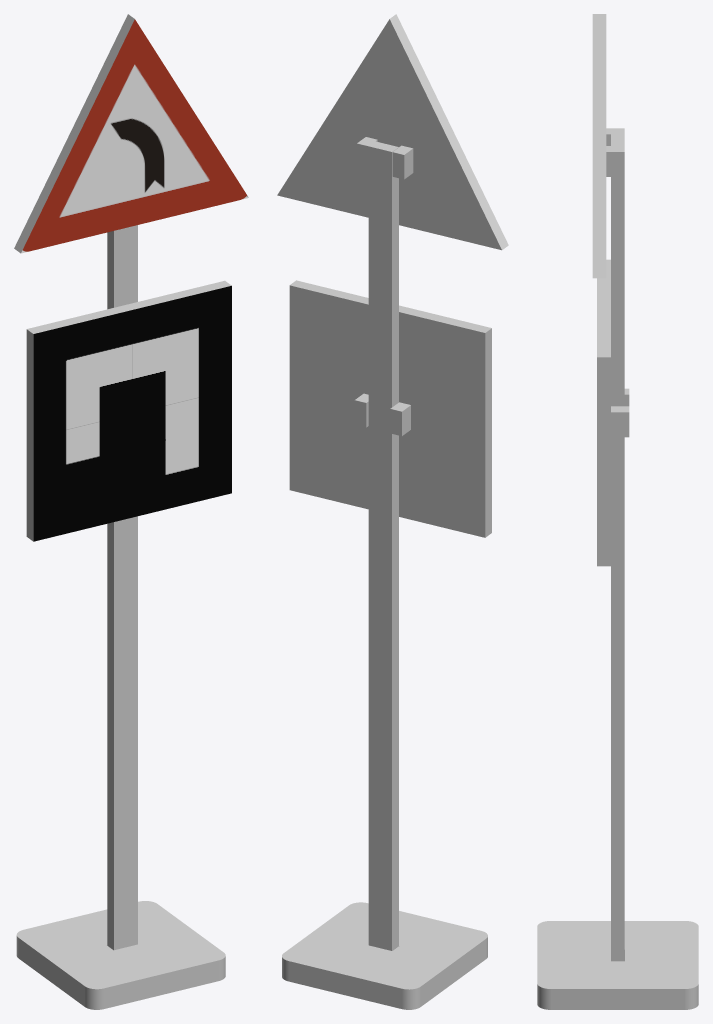
The model's file is peligr_dcha_aruco.dae.
The picture shows the model from 3 angles, left to right: view 1: azimuth 30°, elevation 25°; view 2: azimuth 150°, elevation 25°; view 3: azimuth 270°, elevation 25°; orthographic projection. The views are drawn at different scales.
Visible parts, largest first — view 1: ab221cf7-9816-4806-b56b-c317071661bc, a5c78f3f-2824-48d5-a184-1c378534ab11, b99c7e04-0a23-4c5b-b703-5fe2e5bd65ac, d0072eb1-4ca3-4964-a02b-b9001cddf30d, a0a2af1c-3811-424c-ada5-b0e1c0d73768, aec58471-5204-4872-bb99-f9dafb7750cf, acfba4e2-a005-4db5-9990-896ea4fda4db; view 2: c7cf5848-049b-4965-8817-bbd8187754b8, b99c7e04-0a23-4c5b-b703-5fe2e5bd65ac, aa31220e-6ac5-4553-a1db-29d1aa6f7557, d0072eb1-4ca3-4964-a02b-b9001cddf30d, a0a2af1c-3811-424c-ada5-b0e1c0d73768, aec58471-5204-4872-bb99-f9dafb7750cf, acfba4e2-a005-4db5-9990-896ea4fda4db, aa7a2631-c08e-459d-87d9-79d108347bec, a572ae0f-80d3-4a6b-a854-26b7a5dceff6; view 3: d0072eb1-4ca3-4964-a02b-b9001cddf30d, b99c7e04-0a23-4c5b-b703-5fe2e5bd65ac, ad04e879-e4fc-4193-bd0c-9a2ad80f4616, a1591580-b18e-400a-9259-84c6ca4e6826, acfba4e2-a005-4db5-9990-896ea4fda4db, a1669c4c-b7fb-42cd-8505-fdbf0e9e3b70, af49457a-e68c-404f-82fe-095ade2dd9e9.
Part boxes in pixels (box(x1,y1,x2,y2)): ab221cf7-9816-4806-b56b-c317071661bc: box(33, 285, 231, 541); a5c78f3f-2824-48d5-a184-1c378534ab11: box(23, 19, 246, 251); b99c7e04-0a23-4c5b-b703-5fe2e5bd65ac: box(107, 225, 137, 950); d0072eb1-4ca3-4964-a02b-b9001cddf30d: box(16, 901, 225, 1009); a0a2af1c-3811-424c-ada5-b0e1c0d73768: box(14, 14, 134, 253); aec58471-5204-4872-bb99-f9dafb7750cf: box(26, 329, 33, 541); acfba4e2-a005-4db5-9990-896ea4fda4db: box(27, 280, 231, 333); c7cf5848-049b-4965-8817-bbd8187754b8: box(289, 285, 485, 537); b99c7e04-0a23-4c5b-b703-5fe2e5bd65ac: box(368, 141, 398, 950); aa31220e-6ac5-4553-a1db-29d1aa6f7557: box(277, 19, 501, 250); d0072eb1-4ca3-4964-a02b-b9001cddf30d: box(282, 902, 487, 1009); a0a2af1c-3811-424c-ada5-b0e1c0d73768: box(390, 14, 508, 249); aec58471-5204-4872-bb99-f9dafb7750cf: box(485, 328, 491, 537); acfba4e2-a005-4db5-9990-896ea4fda4db: box(290, 280, 491, 332); aa7a2631-c08e-459d-87d9-79d108347bec: box(392, 145, 413, 179); a572ae0f-80d3-4a6b-a854-26b7a5dceff6: box(390, 402, 410, 436); d0072eb1-4ca3-4964-a02b-b9001cddf30d: box(537, 921, 698, 1009); b99c7e04-0a23-4c5b-b703-5fe2e5bd65ac: box(611, 134, 624, 961); ad04e879-e4fc-4193-bd0c-9a2ad80f4616: box(592, 14, 606, 278); a1591580-b18e-400a-9259-84c6ca4e6826: box(597, 357, 610, 566); acfba4e2-a005-4db5-9990-896ea4fda4db: box(597, 259, 610, 357); a1669c4c-b7fb-42cd-8505-fdbf0e9e3b70: box(611, 406, 629, 437); af49457a-e68c-404f-82fe-095ade2dd9e9: box(606, 146, 624, 176).
Size of the model in its own units: 0.0575 by 0.035 by 0.2302.
Materials: 2 (2 with a texture image).
